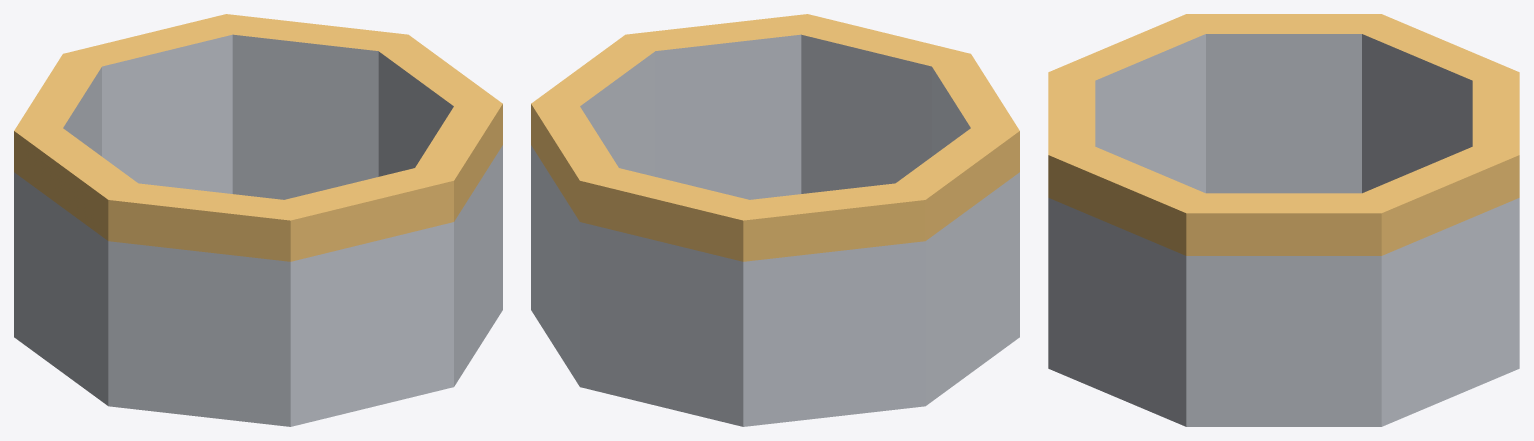
File: space_rocket_fuel_a.glb
3 views of the same model, side by side, from view 1: azimuth 30°, elevation 25°; view 2: azimuth 150°, elevation 25°; view 3: azimuth 270°, elevation 25° (orthographic). The views are drawn at different scales.
Visible parts, largest first — view 1: rocket_fuelA; view 2: rocket_fuelA; view 3: rocket_fuelA.
Boxes of the visible parts, box(x1,y1,x2,y2) form: rocket_fuelA: box(14, 14, 502, 426); rocket_fuelA: box(531, 14, 1019, 426); rocket_fuelA: box(1048, 14, 1519, 426).
Bounding box in the file's own units: 1 × 0.5 × 1.
